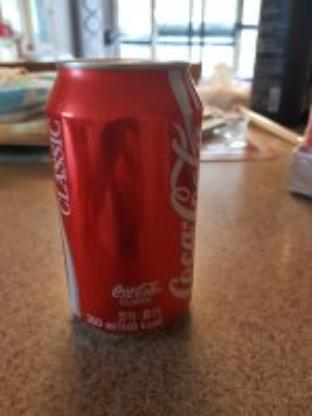Can: (46, 56, 206, 332)
